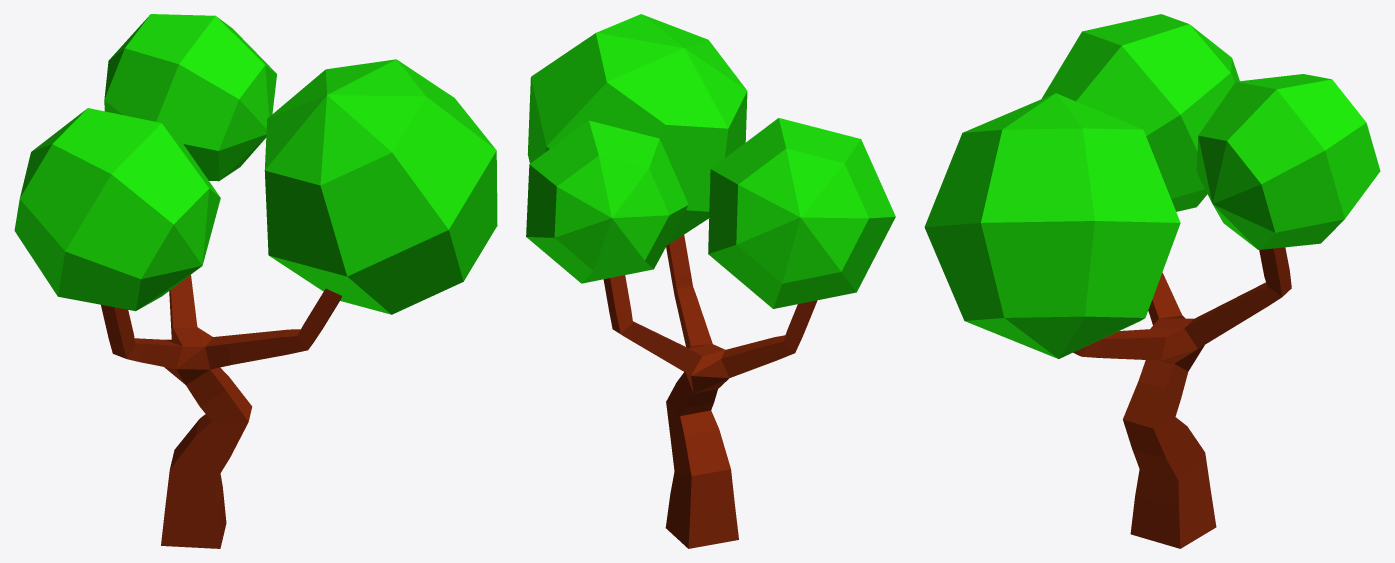
Rendered from Arbol_1.fbx.
3 views of the same model, side by side, from view 1: azimuth 30°, elevation 25°; view 2: azimuth 150°, elevation 25°; view 3: azimuth 270°, elevation 25° (orthographic). The views are drawn at different scales.
Visible parts, largest first — view 1: Sphere.008, Sphere.007, Sphere.005, Cube.001; view 2: Sphere.007, Sphere.008, Sphere.005, Cube.001; view 3: Sphere.008, Sphere.005, Cube.001, Sphere.007.
Part boxes in pixels (x1,y1,x2,y2): Sphere.008: [264, 59, 497, 314]; Sphere.007: [14, 108, 220, 311]; Sphere.005: [104, 14, 276, 181]; Cube.001: [101, 275, 341, 548]; Sphere.007: [708, 118, 895, 308]; Sphere.008: [527, 14, 747, 245]; Sphere.005: [526, 120, 688, 283]; Cube.001: [603, 235, 817, 548]; Sphere.008: [924, 93, 1180, 358]; Sphere.005: [1196, 74, 1380, 249]; Cube.001: [1073, 247, 1291, 548]; Sphere.007: [1041, 14, 1239, 211].
Bounding box in the file's own units: 1.91 × 2.1 × 1.8.
